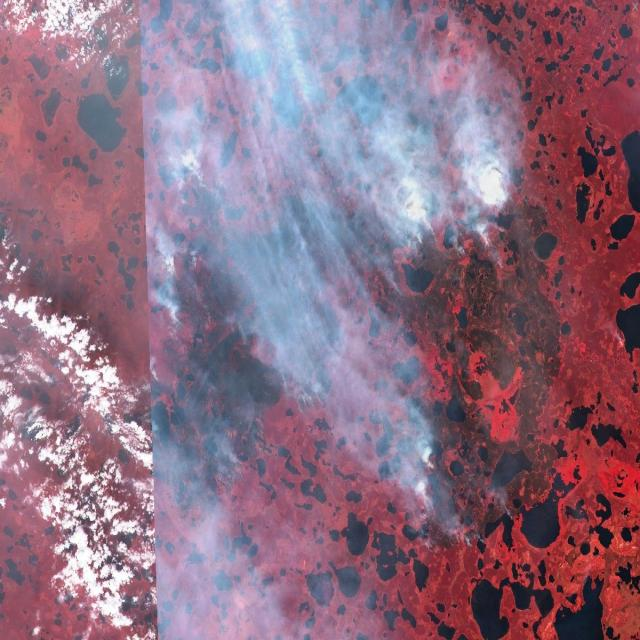fire: (396, 177, 519, 277), (417, 489, 492, 553), (158, 245, 187, 336), (288, 374, 328, 416), (419, 448, 439, 477)
